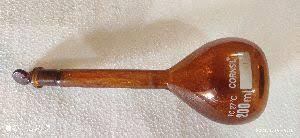Volumetric flask: (17, 4, 235, 124)
